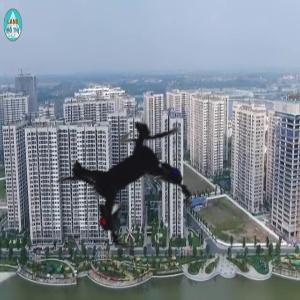drone: (14, 56, 253, 295)
